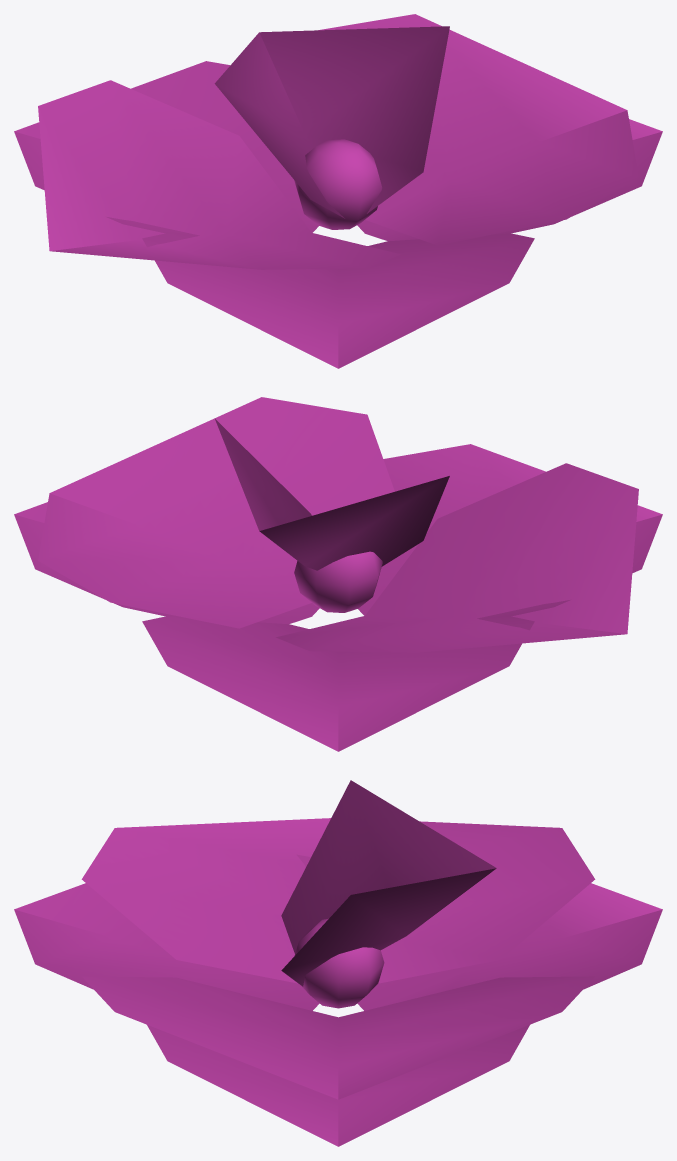
File: orchid.glb
The picture shows the model from 3 angles, top to bottom: view 1: azimuth 30°, elevation 25°; view 2: azimuth 150°, elevation 25°; view 3: azimuth 270°, elevation 25°; orthographic projection.
Parts seen in each view (by area): view 1: orchid; view 2: orchid; view 3: orchid.
Part boxes in pixels (bbox=[...]): orchid: bbox=[14, 14, 662, 368]; orchid: bbox=[14, 397, 662, 751]; orchid: bbox=[14, 780, 662, 1146].
Size of the model in its own units: 0.0925 by 0.0261 by 0.0848.
